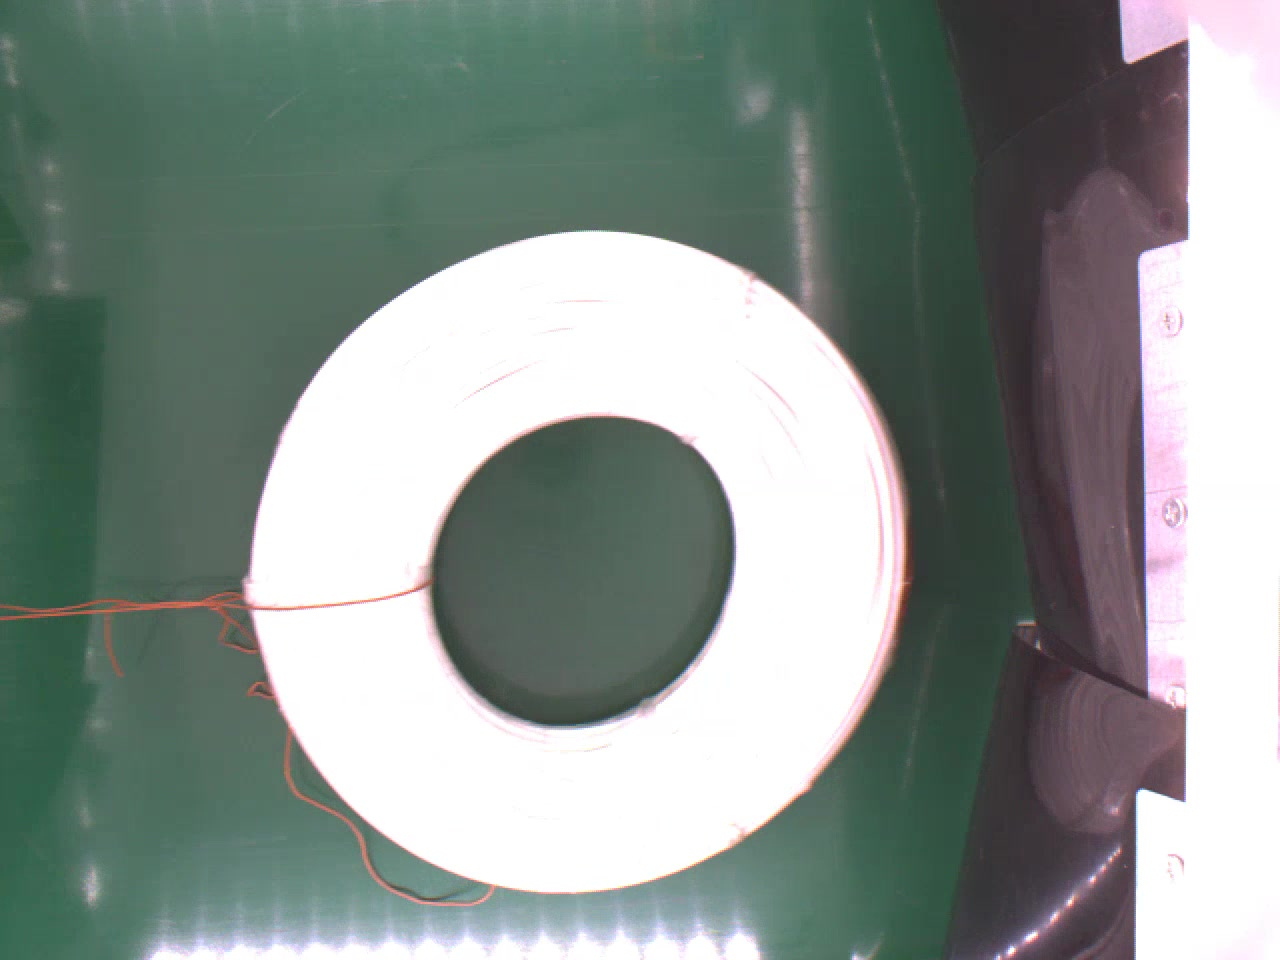white: (236, 222, 905, 893)
